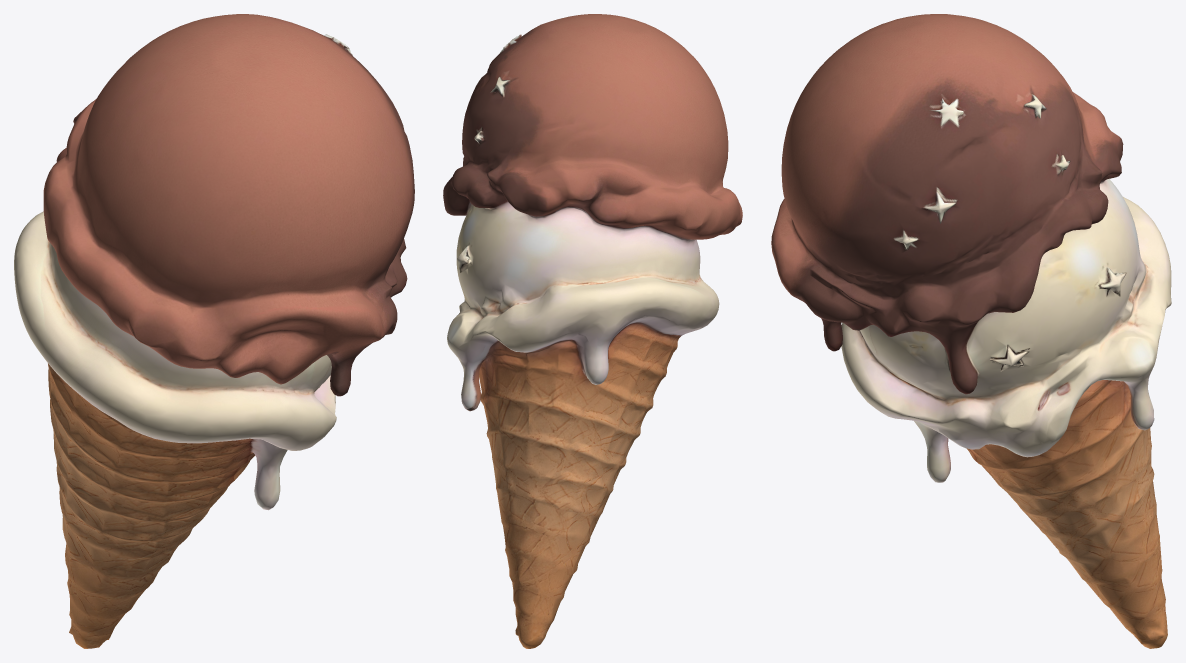
Rendered from ice-cream-cone.glb.
The picture shows the model from 3 angles, left to right: view 1: azimuth 30°, elevation 25°; view 2: azimuth 150°, elevation 25°; view 3: azimuth 270°, elevation 25°; orthographic projection. The views are drawn at different scales.
Parts seen in each view (by area): view 1: tripo_node_e540a019-b079-4501-9c33-8dd9f35ba1a4; view 2: tripo_node_e540a019-b079-4501-9c33-8dd9f35ba1a4; view 3: tripo_node_e540a019-b079-4501-9c33-8dd9f35ba1a4.
Part boxes in pixels (x1,y1,x2,y2): tripo_node_e540a019-b079-4501-9c33-8dd9f35ba1a4: (14, 14, 414, 648); tripo_node_e540a019-b079-4501-9c33-8dd9f35ba1a4: (443, 14, 742, 648); tripo_node_e540a019-b079-4501-9c33-8dd9f35ba1a4: (771, 14, 1171, 648).
Bounding box in the file's own units: 0.4979 × 1 × 0.5723.
1 material, 1 textured.
